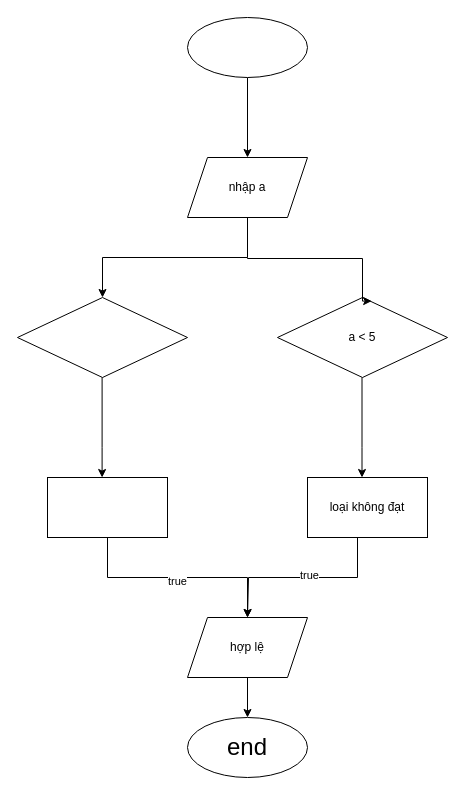
The diagram is 465 pixels wide and 795 high, and some of its shapes have lost their labels. The shapes that lost their labels are listed below. From the top down, each one's centre as x and y in pixels, then its label:
At point 247,47: "Start".
At point 102,337: "a > 5".
At point 107,507: "loại đạt".
